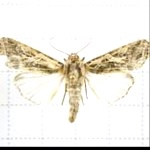Spodoptera litura: (0, 26, 149, 123)
